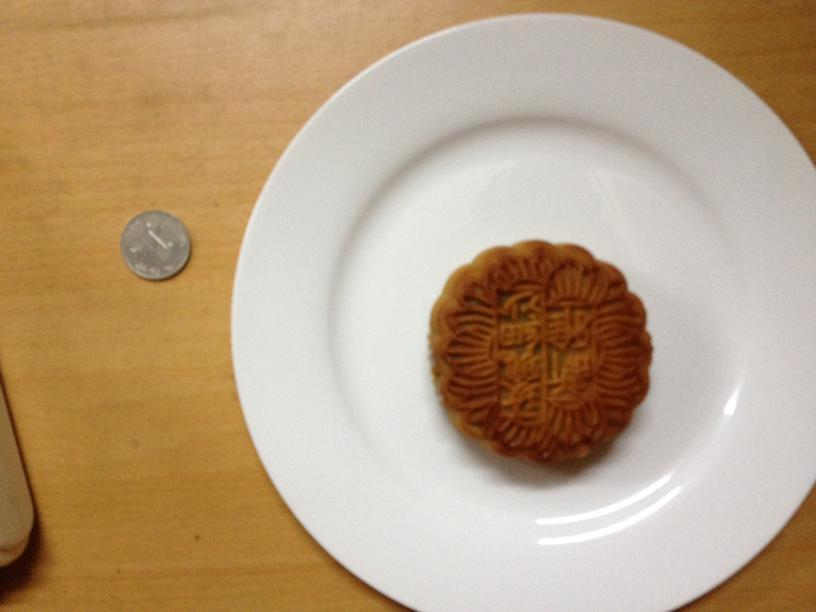coin: (119, 210, 192, 280)
mooncake: (430, 239, 653, 465)
